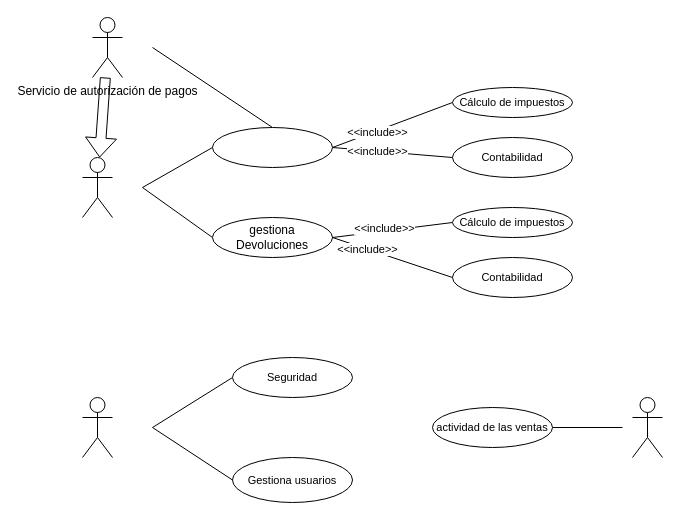
The diagram is 690 pixels wide and 520 high, and some of its shapes have lost their labels. The centre of each missing label's shape, as x and y in pixels:
"Administrador del sistema" goes at point 97,427.
"Analizador" goes at point 647,427.
"Cajero" goes at point 97,187.
"gestiona Ventas" goes at point 272,147.
